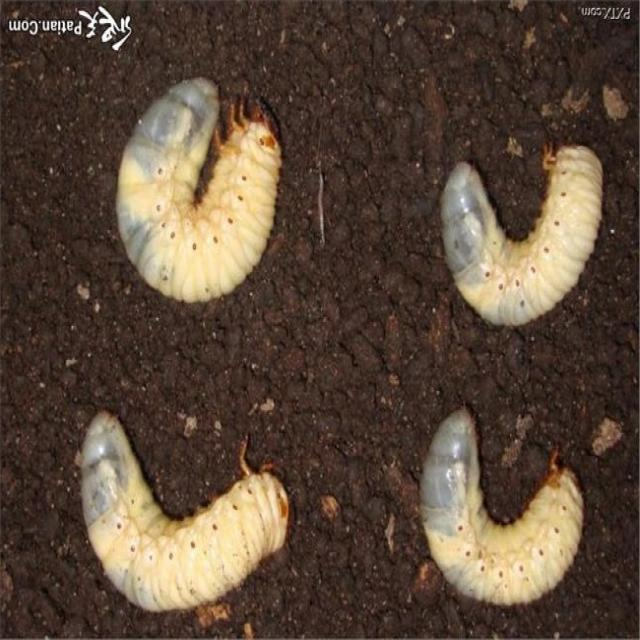grub: (73, 403, 293, 622), (112, 72, 288, 309), (414, 397, 586, 609), (439, 138, 609, 341)
